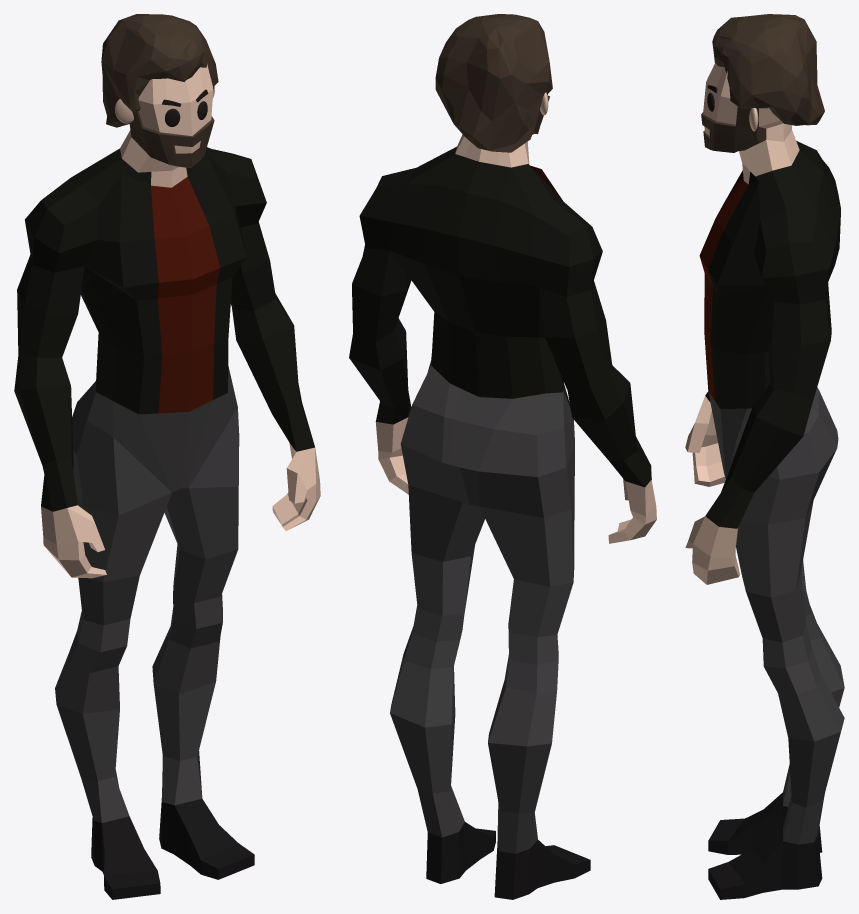
Rendered from MainCharacter.fbx.
3 views of the same model, side by side, from view 1: azimuth 30°, elevation 25°; view 2: azimuth 150°, elevation 25°; view 3: azimuth 270°, elevation 25° (orthographic).
Parts seen in each view (by area): view 1: Cube.002, Sphere.002; view 2: Cube.002, Sphere.002; view 3: Cube.002, Sphere.002.
Part boxes in pixels (<box>): Cube.002: <box>14,64,320,899</box>; Sphere.002: <box>101,14,218,127</box>; Cube.002: <box>349,94,656,899</box>; Sphere.002: <box>435,14,552,152</box>; Cube.002: <box>685,63,844,899</box>; Sphere.002: <box>712,14,824,125</box>.
Size of the model in its own units: 56.9 by 171 by 29.31.
